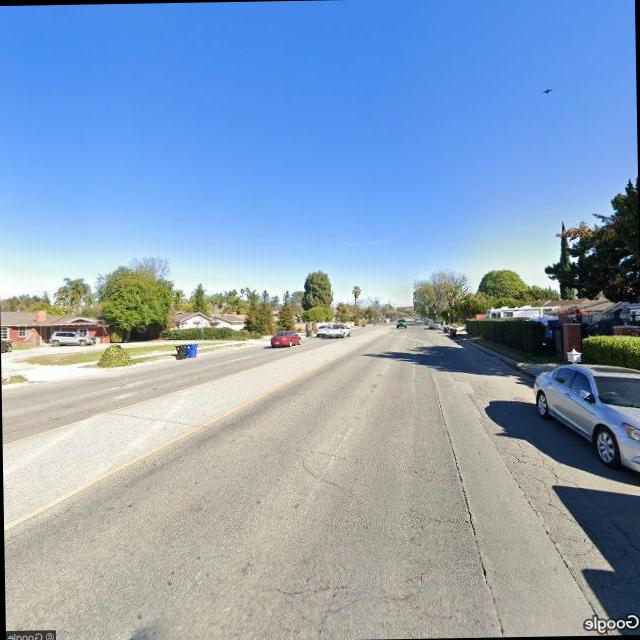crack: (464, 376, 599, 526), (298, 456, 358, 494)
